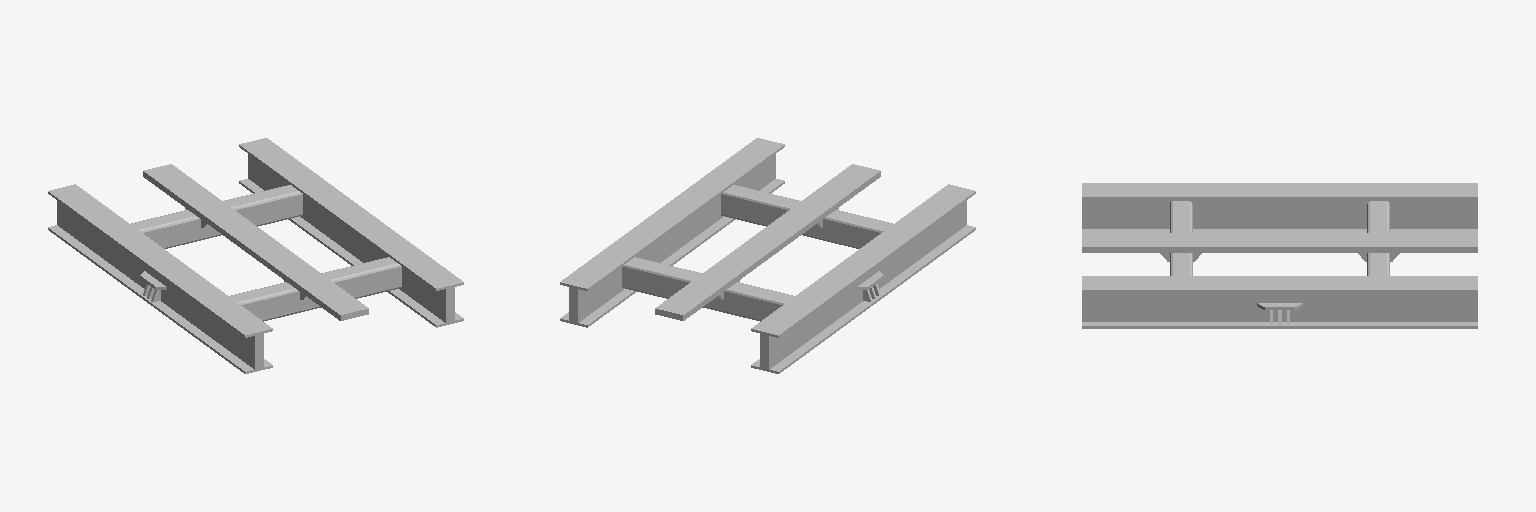
File: disko_track_swatch_3.0m_scale.obj
The picture shows the model from 3 angles: view 1: azimuth 30°, elevation 25°; view 2: azimuth 150°, elevation 25°; view 3: azimuth 270°, elevation 25°; orthographic projection.
Visible parts, largest first — view 1: Group 6, Group 1, Group 4, Group 10, Group 9; view 2: Group 6, Group 1, Group 4, Group 9, Group 10; view 3: Group 1, Group 6, Group 4, Group 9, Group 10.
Boxes of the visible parts, x1,y1,x2,y2 form: Group 6: [48, 184, 272, 373]; Group 1: [239, 138, 463, 327]; Group 4: [143, 164, 368, 320]; Group 10: [229, 257, 401, 321]; Group 9: [131, 185, 302, 248]; Group 6: [751, 184, 975, 373]; Group 1: [560, 138, 784, 327]; Group 4: [655, 164, 880, 320]; Group 9: [622, 257, 794, 321]; Group 10: [721, 185, 892, 248]; Group 1: [1082, 276, 1477, 328]; Group 6: [1082, 183, 1477, 232]; Group 4: [1082, 233, 1477, 252]; Group 9: [1358, 201, 1399, 275]; Group 10: [1160, 201, 1201, 275].
Size of the model in its own units: 7.68 by 1.3 by 12.